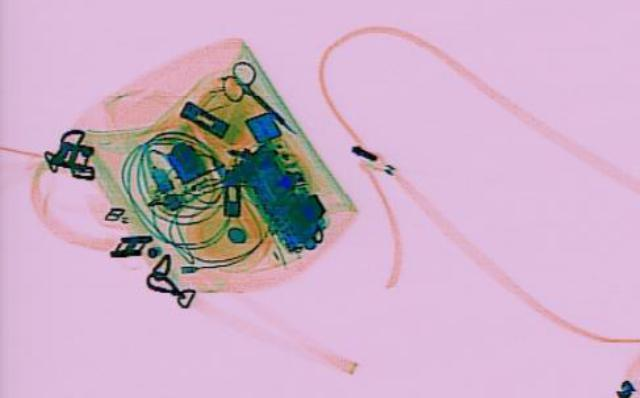Scissors: (198, 57, 314, 136)
